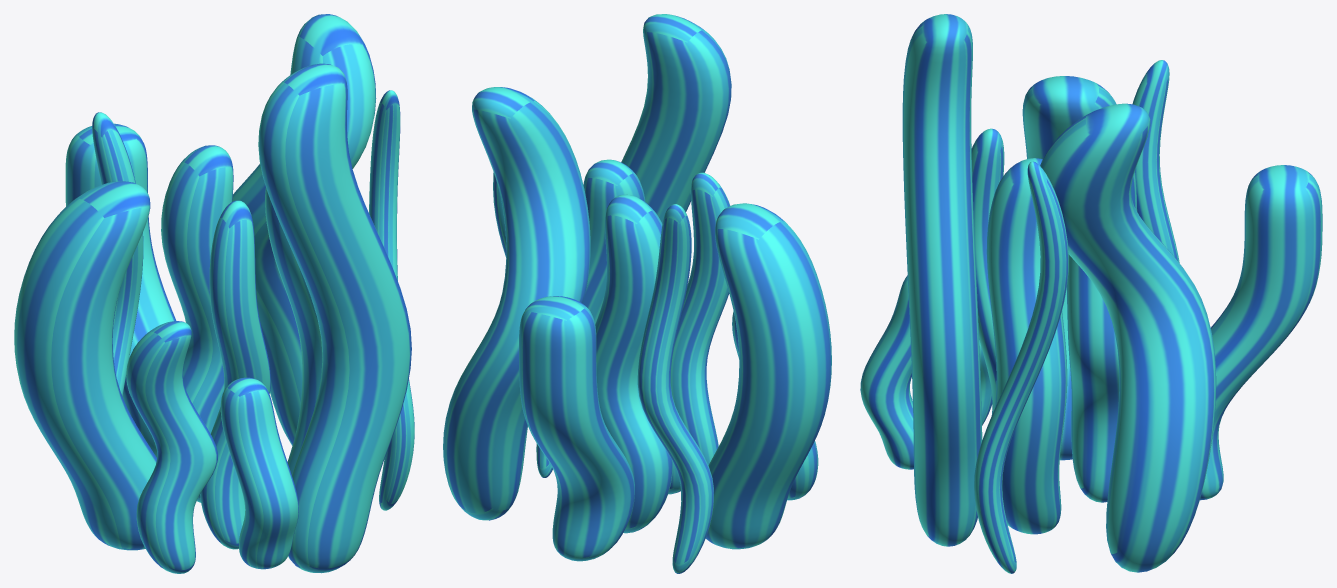
The model's file is sea_plants_rund.glb.
The picture shows the model from 3 angles, left to right: view 1: azimuth 30°, elevation 25°; view 2: azimuth 150°, elevation 25°; view 3: azimuth 270°, elevation 25°; orthographic projection. The views are drawn at different scales.
Visible parts, largest first — view 1: Cube.005; view 2: Cube.005; view 3: Cube.005.
Part boxes in pixels (<box>): Cube.005: <box>14,14,414,573</box>; Cube.005: <box>443,14,831,573</box>; Cube.005: <box>860,14,1322,573</box>.
Bounding box in the file's own units: 11.14 × 14.85 × 11.97.
Materials: 1 (1 with a texture image).
